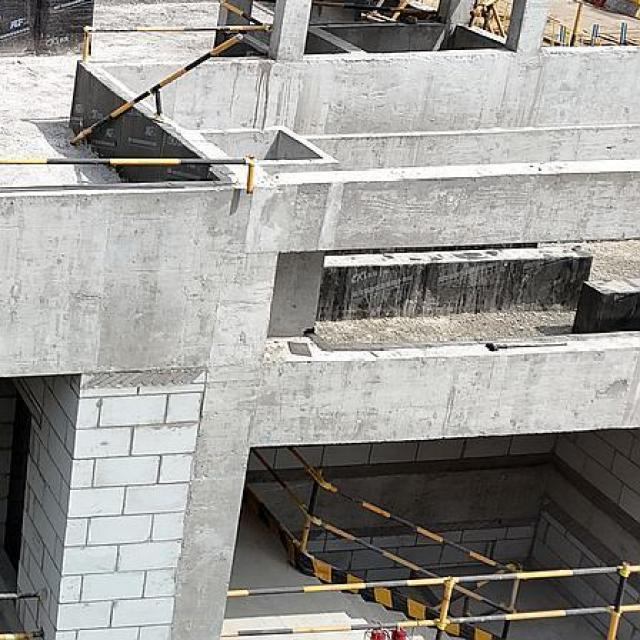edge_guardrail: (218, 558, 640, 640), (67, 32, 244, 147), (80, 0, 274, 66), (0, 152, 257, 194), (0, 591, 46, 640)
